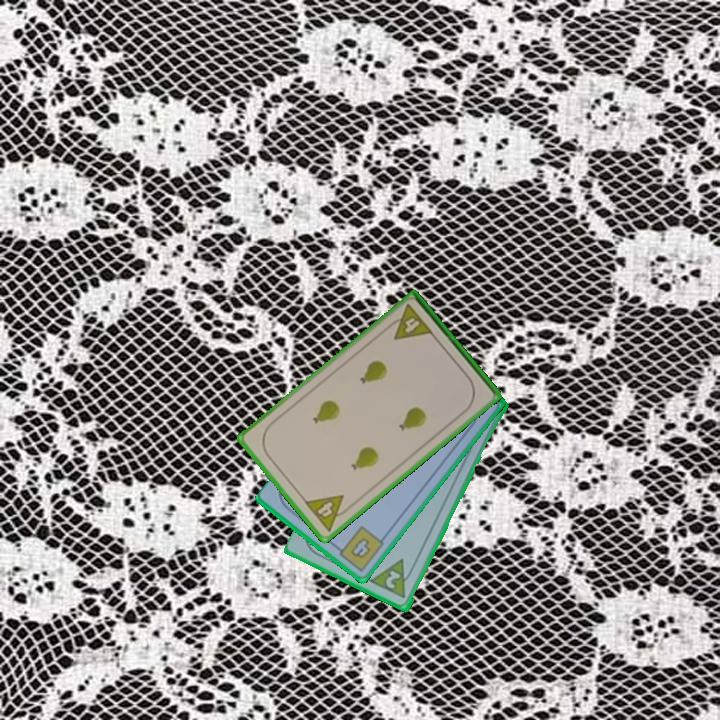2p: (368, 556, 418, 602)
4b: (331, 523, 387, 575)
4p: (301, 491, 355, 534), (383, 301, 436, 343)
